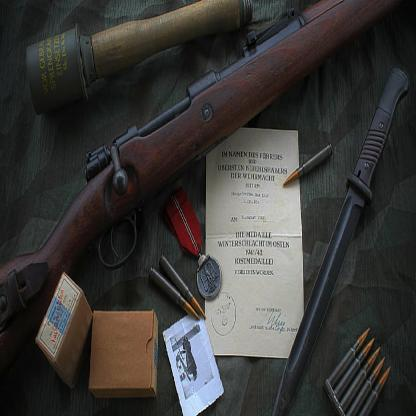Grenade: (24, 0, 253, 118)
Gun: (0, 0, 403, 375)
Knife: (271, 64, 410, 416)
